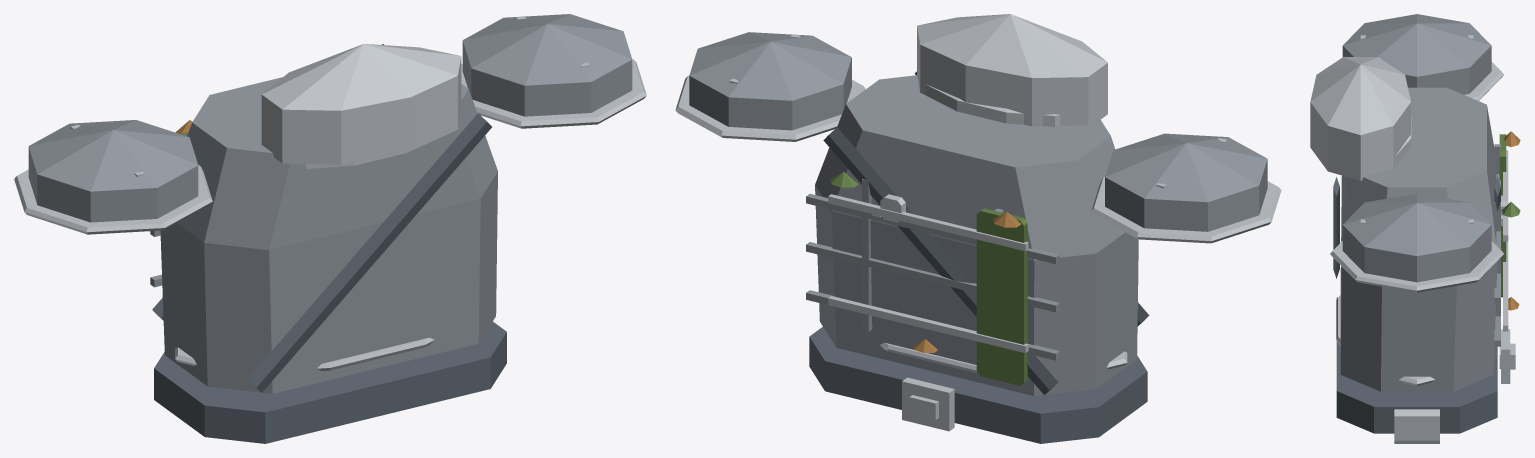
File: armor_bow_s2.fbx
3 views of the same model, side by side, from view 1: azimuth 30°, elevation 25°; view 2: azimuth 150°, elevation 25°; view 3: azimuth 270°, elevation 25° (orthographic). The views are drawn at different scales.
Visible parts, largest first — view 1: Chest_Body, Chest_Inner, Chest_Trim, Shoulder_R_Body, Shoulder_L_Body, Shoulder_L_Trim, Shoulder_R_Trim, Chest_Trim_Ep; view 2: Chest_Body, Chest_Trim, Chest_Inner, Shoulder_L_Body, Shoulder_R_Body, Chest_Attach, Shoulder_L_Trim, Shoulder_R_Trim, Chest_Trim_Ep; view 3: Chest_Body, Chest_Trim, Shoulder_R_Body, Shoulder_L_Body, Chest_Inner, Shoulder_R_Trim, Chest_Attach, Shoulder_L_Trim, Chest_Trim_Ep, Chest_Gem_Ep.
Part boxes in pixels (x1=…): Chest_Body: x1=150, y1=77, x2=497, y2=393; Chest_Inner: x1=152, y1=44, x2=506, y2=443; Chest_Trim: x1=261, y1=44, x2=461, y2=168; Shoulder_R_Body: x1=462, y1=14, x2=632, y2=116; Shoulder_L_Body: x1=28, y1=120, x2=198, y2=222; Shoulder_L_Trim: x1=14, y1=124, x2=212, y2=234; Shoulder_R_Trim: x1=461, y1=16, x2=646, y2=128; Chest_Trim_Ep: x1=175, y1=337, x2=433, y2=370; Chest_Body: x1=806, y1=75, x2=1138, y2=395; Chest_Trim: x1=828, y1=14, x2=1107, y2=431; Chest_Inner: x1=809, y1=71, x2=1149, y2=443; Shoulder_L_Body: x1=1105, y1=133, x2=1267, y2=231; Shoulder_R_Body: x1=689, y1=32, x2=851, y2=130; Chest_Attach: x1=830, y1=171, x2=1027, y2=385; Shoulder_L_Trim: x1=1091, y1=138, x2=1281, y2=243; Shoulder_R_Trim: x1=675, y1=34, x2=865, y2=141; Chest_Trim_Ep: x1=880, y1=342, x2=1127, y2=373; Chest_Body: x1=1340, y1=87, x2=1500, y2=391; Chest_Trim: x1=1310, y1=57, x2=1515, y2=443; Shoulder_R_Body: x1=1342, y1=193, x2=1491, y2=282; Shoulder_L_Body: x1=1342, y1=14, x2=1491, y2=94; Chest_Inner: x1=1333, y1=177, x2=1500, y2=433; Shoulder_R_Trim: x1=1330, y1=219, x2=1503, y2=292; Chest_Attach: x1=1499, y1=134, x2=1520, y2=297; Shoulder_L_Trim: x1=1360, y1=35, x2=1503, y2=100; Chest_Trim_Ep: x1=1336, y1=295, x2=1435, y2=385; Chest_Gem_Ep: x1=1504, y1=131, x2=1520, y2=310.
Bounding box in the file's own units: 446 × 261 × 157.
